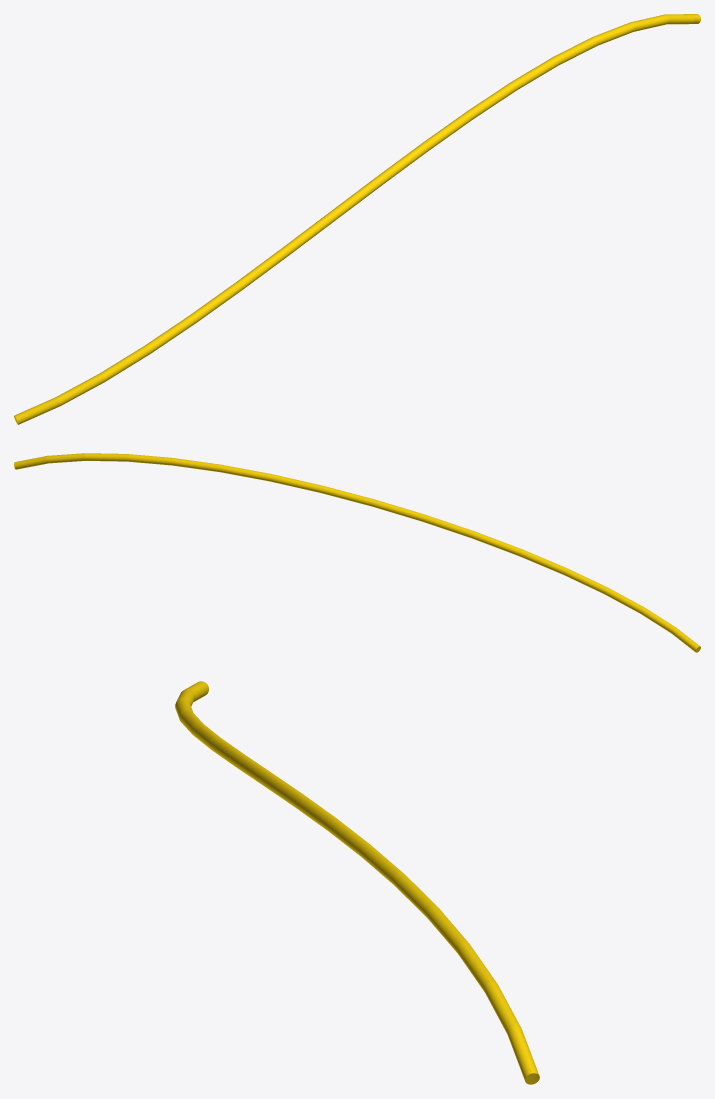
The model's file is Event_421115418_track_101.fbx.
The picture shows the model from 3 angles, top to bottom: view 1: azimuth 30°, elevation 25°; view 2: azimuth 150°, elevation 25°; view 3: azimuth 270°, elevation 25°; orthographic projection. The views are drawn at different scales.
Visible parts, largest first — view 1: Model; view 2: Model; view 3: Model.
Boxes of the visible parts, x1=… form: Model: x1=14, y1=14, x2=700, y2=424; Model: x1=14, y1=453, x2=700, y2=652; Model: x1=175, y1=681, x2=539, y2=1084.
Bounding box in the file's own units: 3.61 × 0.7067 × 0.9475.
